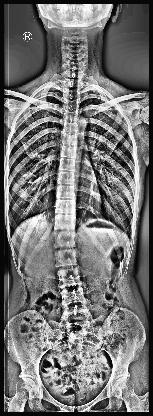Vertebrae: (60, 288, 88, 310), (56, 268, 82, 288), (56, 249, 78, 267), (62, 310, 90, 324), (54, 214, 76, 230), (54, 232, 76, 248), (54, 200, 76, 214), (58, 158, 76, 172), (56, 186, 76, 198), (57, 172, 75, 184), (63, 88, 80, 100), (63, 98, 80, 110), (59, 146, 76, 158), (62, 133, 78, 145), (62, 111, 80, 121), (62, 122, 80, 132)
